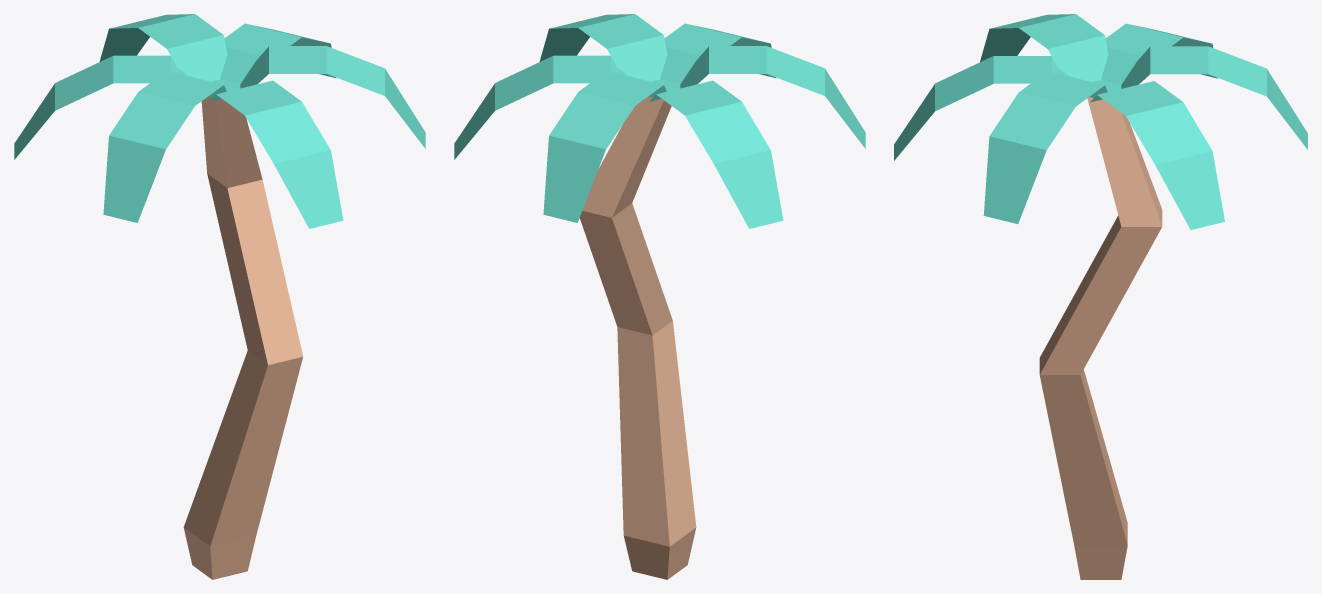
The model's file is tree_palmBend.glb.
The picture shows the model from 3 angles, left to right: view 1: azimuth 30°, elevation 25°; view 2: azimuth 150°, elevation 25°; view 3: azimuth 270°, elevation 25°; orthographic projection.
Parts seen in each view (by area): view 1: tree_palmBend; view 2: tree_palmBend; view 3: tree_palmBend.
Boxes of the visible parts, box(x1,y1,x2,y2) form: tree_palmBend: box(14, 14, 425, 579); tree_palmBend: box(454, 14, 865, 579); tree_palmBend: box(894, 14, 1307, 579).
Size of the model in its own units: 0.9355 by 1.38 by 1.01.
